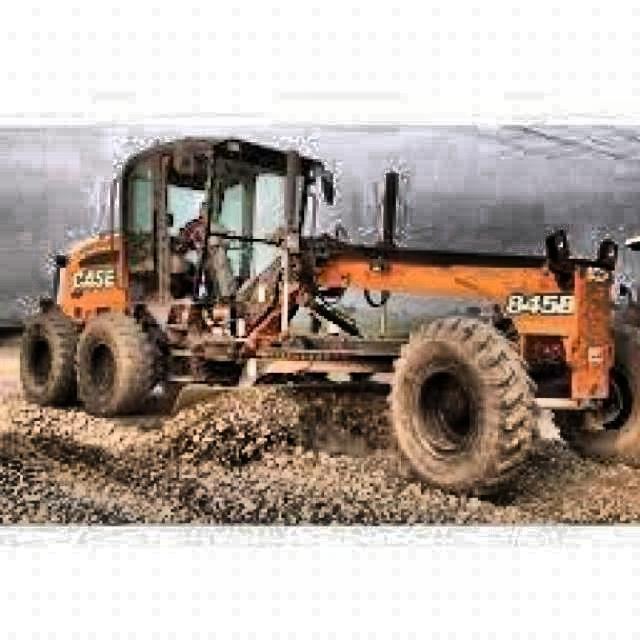bull_dozer/loader/grader: (18, 134, 640, 493)
person: (178, 199, 215, 292)
